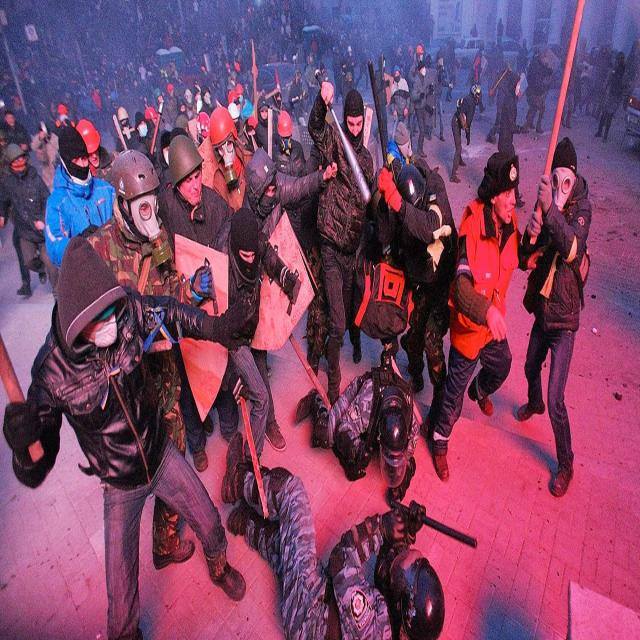body: (0, 1, 640, 205), (1, 230, 257, 639), (84, 146, 214, 570), (218, 425, 446, 639), (423, 148, 545, 487), (513, 129, 595, 502), (240, 146, 338, 452), (157, 132, 240, 474), (306, 77, 378, 431), (342, 203, 462, 408), (377, 162, 460, 442), (306, 116, 376, 386), (294, 363, 422, 508), (212, 205, 276, 472), (44, 124, 118, 268), (0, 140, 52, 298), (208, 104, 254, 213), (384, 121, 416, 266), (272, 109, 306, 242), (497, 70, 527, 209), (74, 115, 122, 189), (448, 81, 482, 184), (522, 42, 554, 135), (410, 60, 434, 159), (30, 119, 60, 194), (431, 50, 455, 142), (389, 63, 411, 144), (373, 52, 391, 150), (465, 44, 487, 114), (0, 108, 32, 154), (408, 44, 424, 88)
